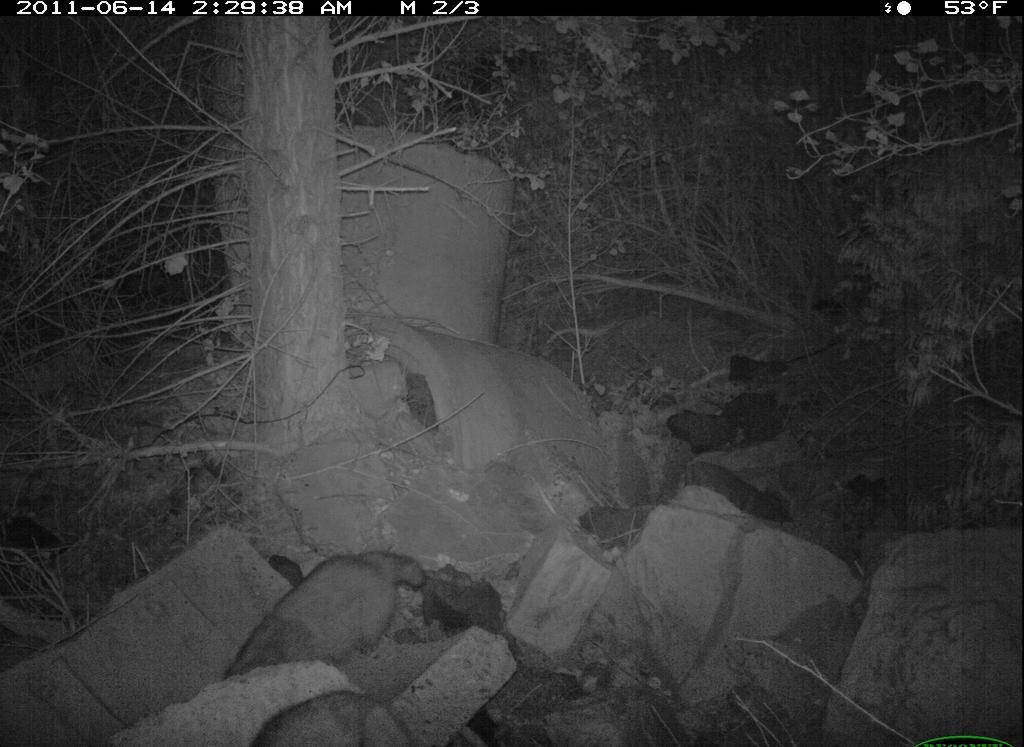raccoon: (217, 523, 434, 705)
